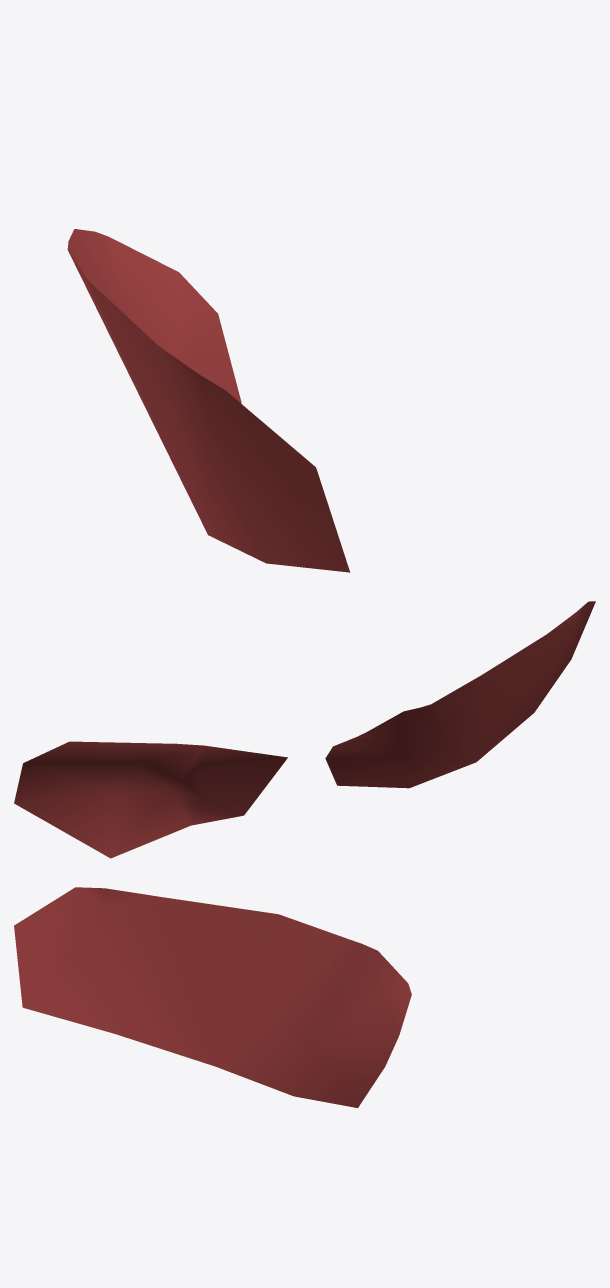
Rendered from semimembranosus-muscle-el.glb.
The picture shows the model from 3 angles, top to bottom: view 1: azimuth 30°, elevation 25°; view 2: azimuth 150°, elevation 25°; view 3: azimuth 270°, elevation 25°; orthographic projection. The views are drawn at different scales.
Parts seen in each view (by area): view 1: Semimembranosus muscle.el; view 2: Semimembranosus muscle.el; view 3: Semimembranosus muscle.el.
Part boxes in pixels (box(x1,y1,x2,y2)): Semimembranosus muscle.el: box(67, 229, 350, 572); Semimembranosus muscle.el: box(14, 601, 595, 858); Semimembranosus muscle.el: box(14, 887, 411, 1107).
Size of the model in its own units: 0.0233 by 0.0116 by 0.0275.
